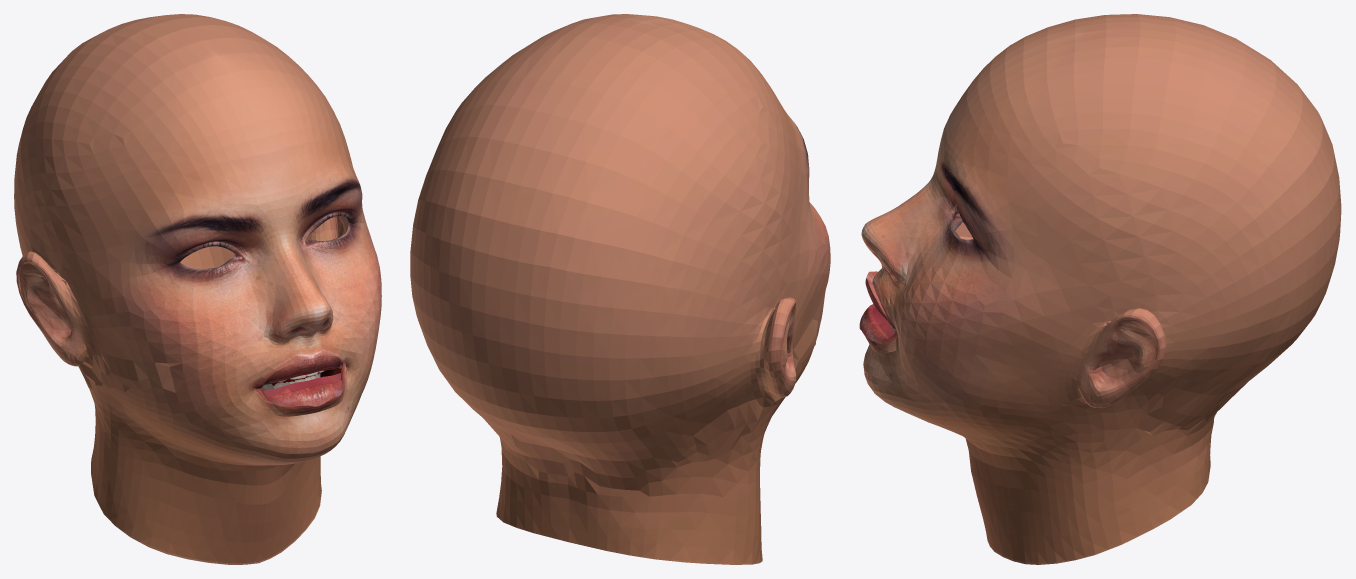
The model's file is eee.obj.
3 views of the same model, side by side, from view 1: azimuth 30°, elevation 25°; view 2: azimuth 150°, elevation 25°; view 3: azimuth 270°, elevation 25° (orthographic). The views are drawn at different scales.
Parts seen in each view (by area): view 1: Mesh_skin_hi.001; view 2: Mesh_skin_hi.001; view 3: Mesh_skin_hi.001.
Boxes of the visible parts, bbox=[...] form: Mesh_skin_hi.001: bbox=[14, 14, 381, 564]; Mesh_skin_hi.001: bbox=[410, 14, 830, 564]; Mesh_skin_hi.001: bbox=[859, 14, 1341, 564].
Bounding box in the file's own units: 198 × 283 × 242.
5 materials, 5 textured.
